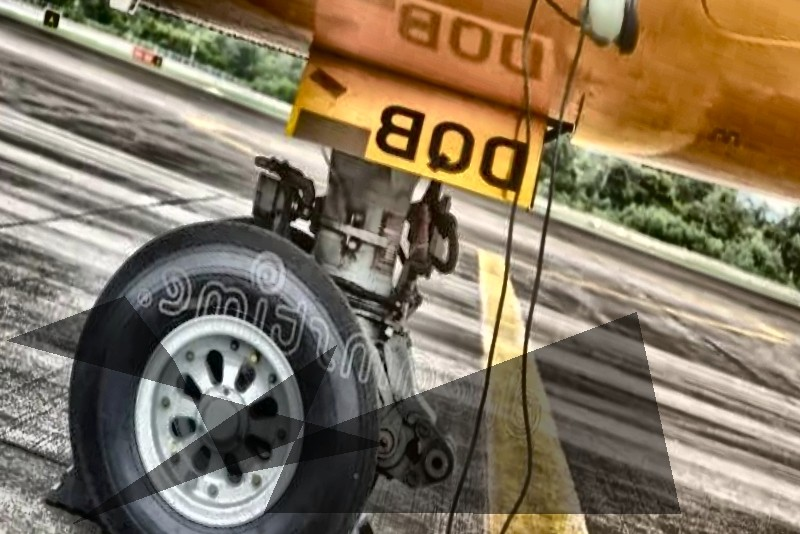wheel: (40, 169, 429, 534)
